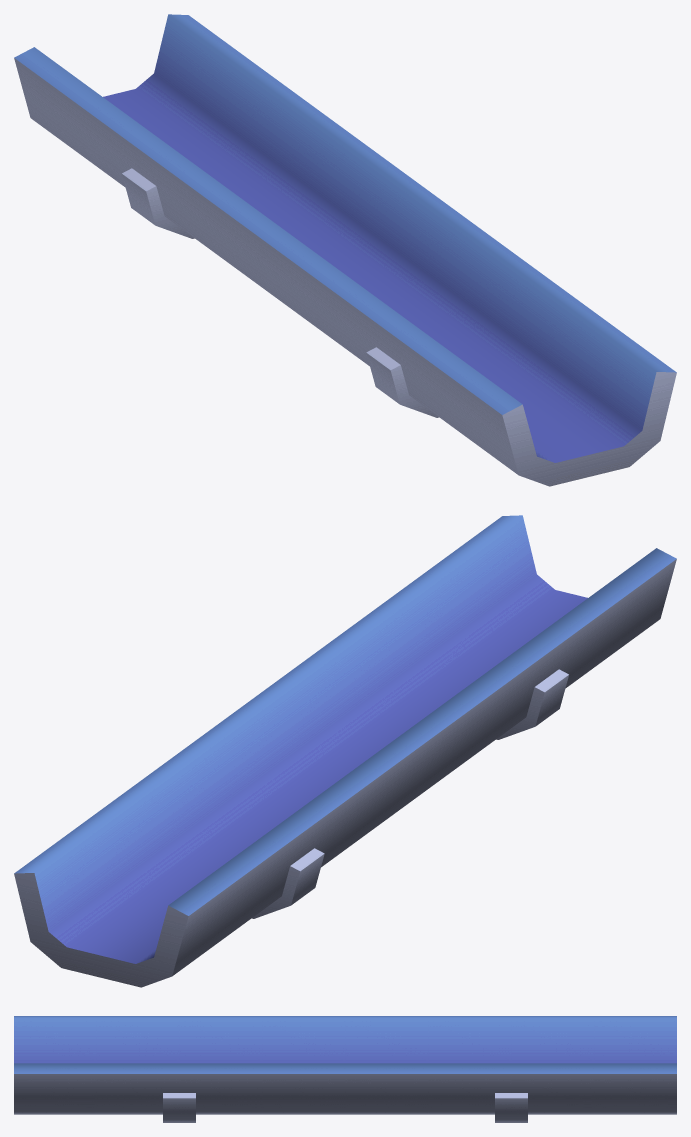
The model's file is coaster-flume-straight.glb.
The picture shows the model from 3 angles, top to bottom: view 1: azimuth 30°, elevation 25°; view 2: azimuth 150°, elevation 25°; view 3: azimuth 270°, elevation 25°; orthographic projection. The views are drawn at different scales.
Visible parts, largest first — view 1: coaster-flume-straight; view 2: coaster-flume-straight; view 3: coaster-flume-straight.
Boxes of the visible parts, bbox=[...] form: coaster-flume-straight: bbox=[14, 14, 676, 486]; coaster-flume-straight: bbox=[14, 515, 676, 987]; coaster-flume-straight: bbox=[14, 1016, 676, 1122].
Size of the model in its own units: 2.53 by 1.35 by 12.
Materials: 1 (1 with a texture image).
